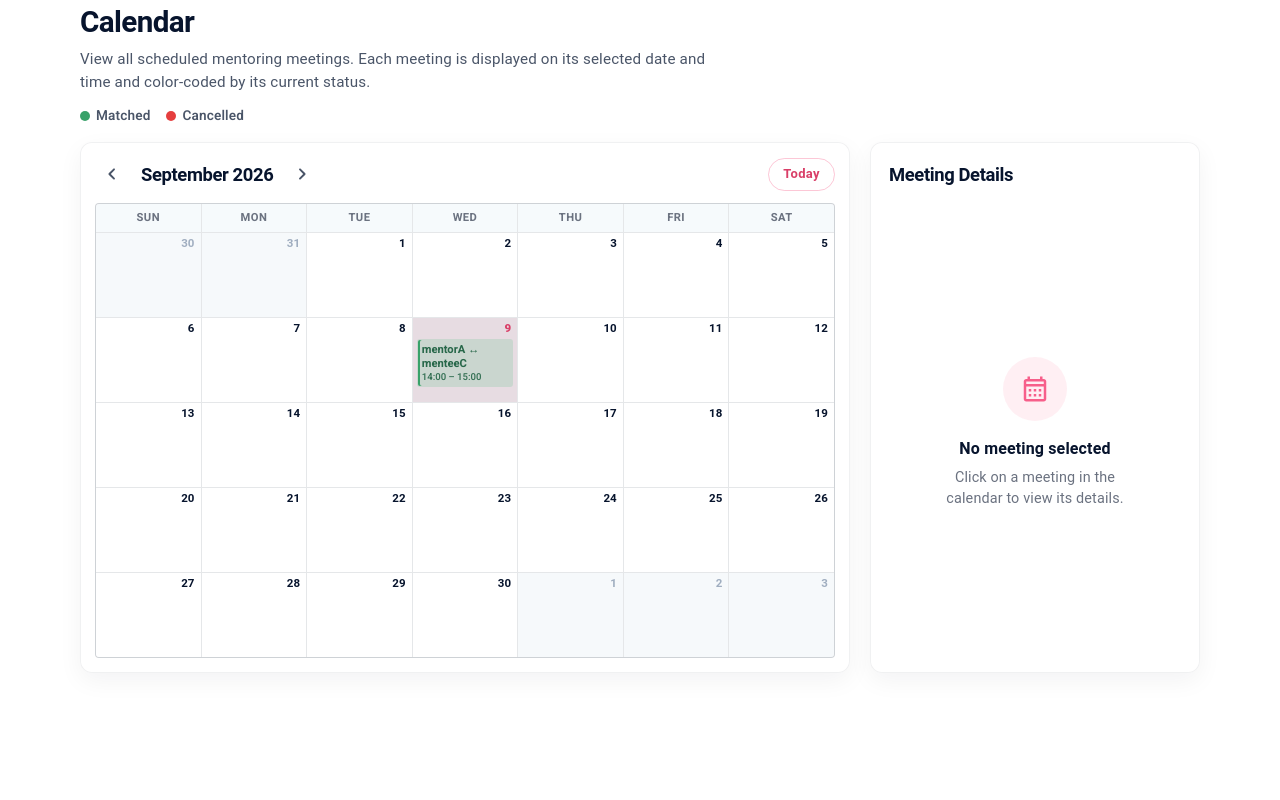
Test case: AdminCalendarPage › clicking event opens Meeting Details panel without navigating away
The image size is (1280, 800).
Check: the text "No meeting selected" is shown, box x1=959 y1=437 x2=1111 y2=461
Click the button "mentorA ↔ menteeC 14:00 – 15:00".
click(465, 363)  # box x1=417 y1=339 x2=513 y2=387
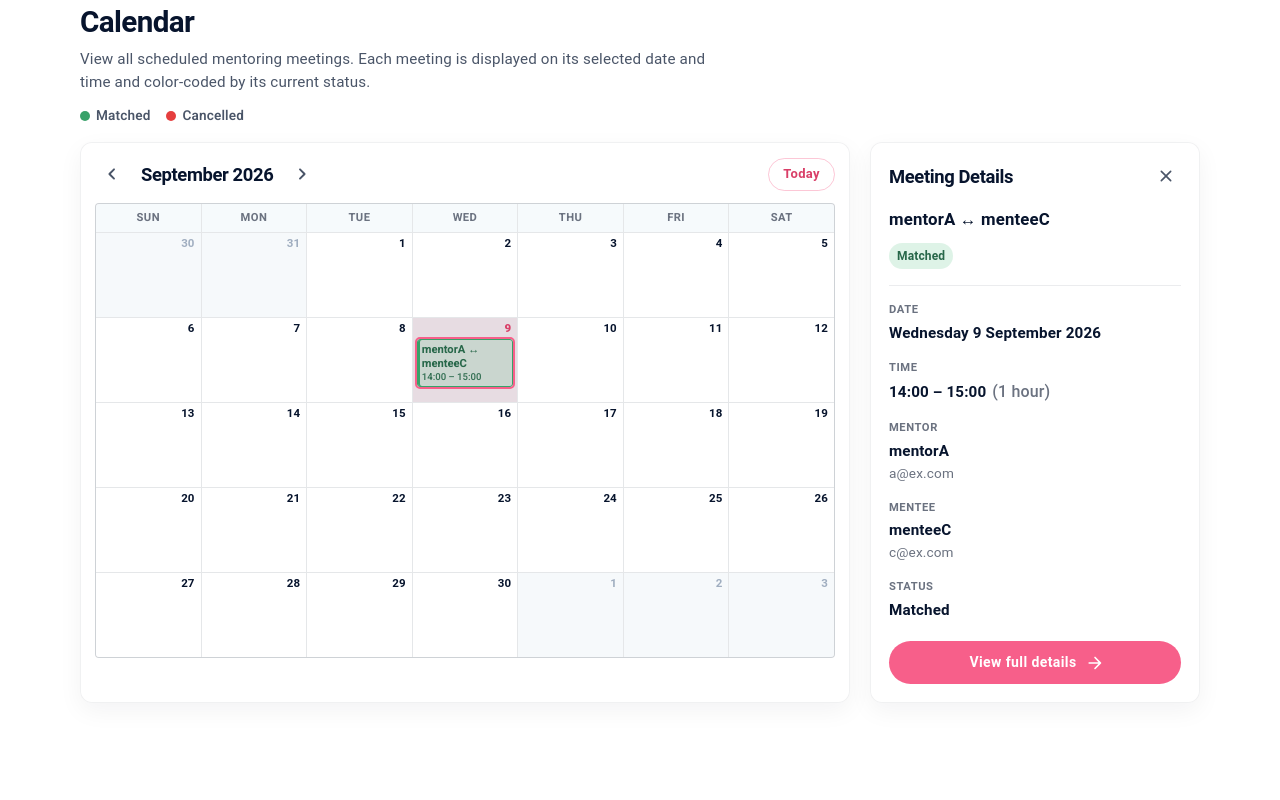
Check: the text "a@ex.com" is shown, box x1=889 y1=465 x2=954 y2=481
Check: the link "View full details" is shown, box x1=889 y1=642 x2=1181 y2=684
Check: the text "No meeting selected" is gone
